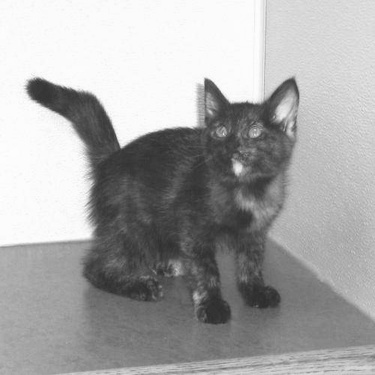cat: (23, 80, 303, 314)
